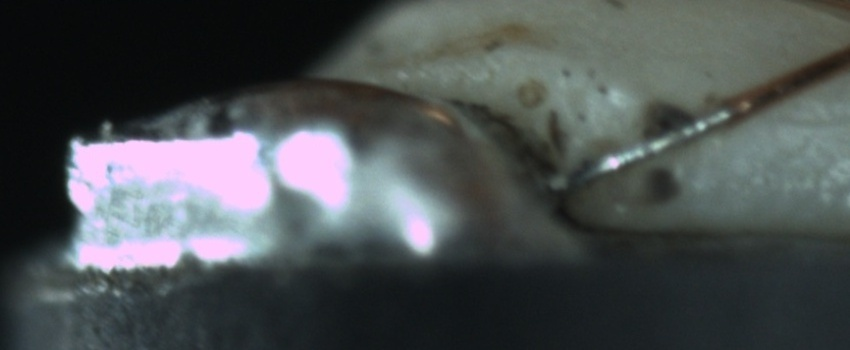DL: (760, 83, 849, 151)
TS: (558, 104, 736, 194)
